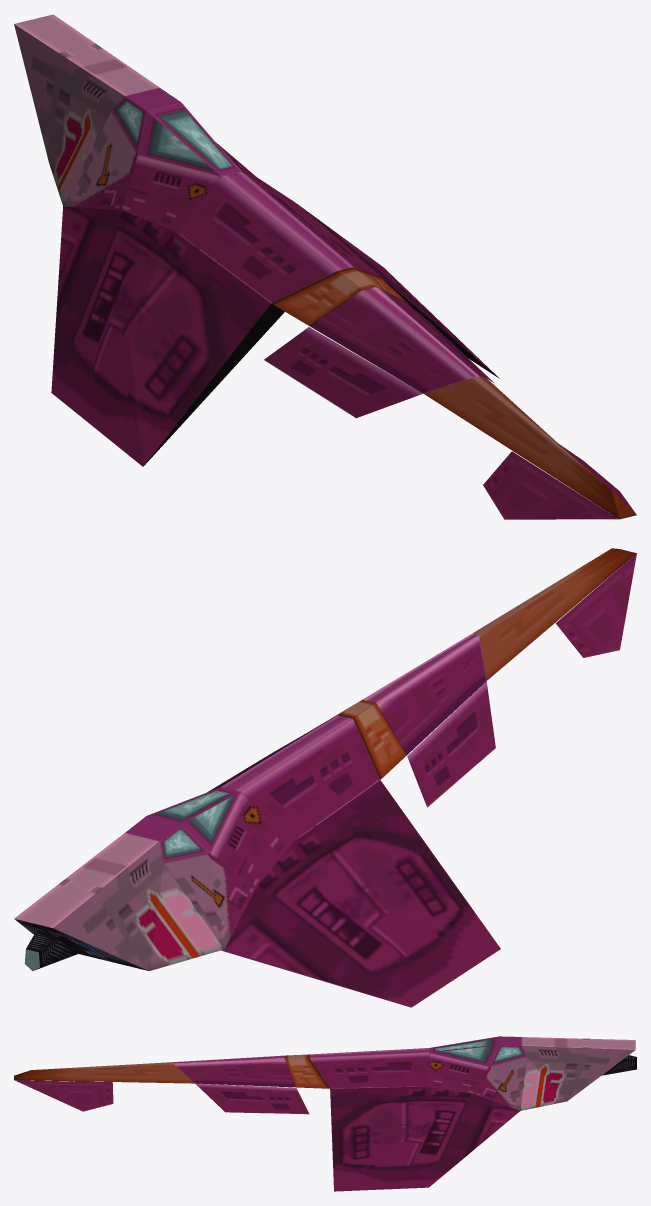
File: Icarus.obj
The picture shows the model from 3 angles, top to bottom: view 1: azimuth 30°, elevation 25°; view 2: azimuth 150°, elevation 25°; view 3: azimuth 270°, elevation 25°; orthographic projection. The views are drawn at different scales.
Parts seen in each view (by area): view 1: GameObject; view 2: GameObject; view 3: GameObject.
Boxes of the visible parts, x1,y1,x2,y2 form: GameObject: (14, 14, 636, 519); GameObject: (14, 548, 636, 1007); GameObject: (14, 1036, 636, 1191).
Size of the model in its own units: 3.3 by 1.76 by 9.46.
